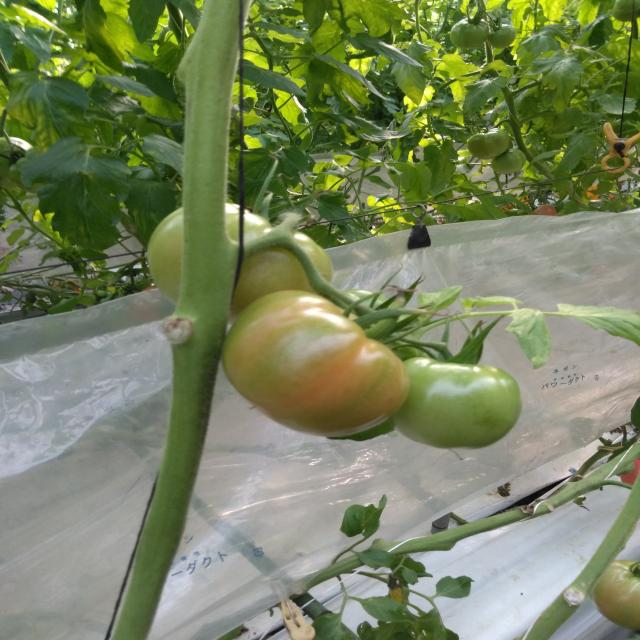yesil: (140, 191, 540, 460)
